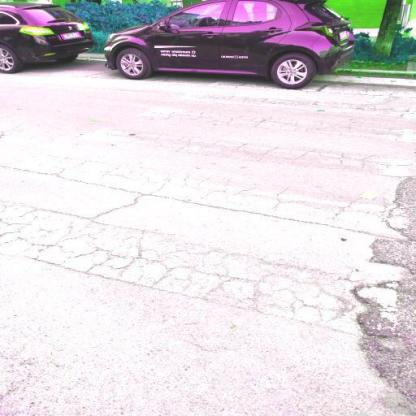crosswalk: (53, 104, 416, 180)
